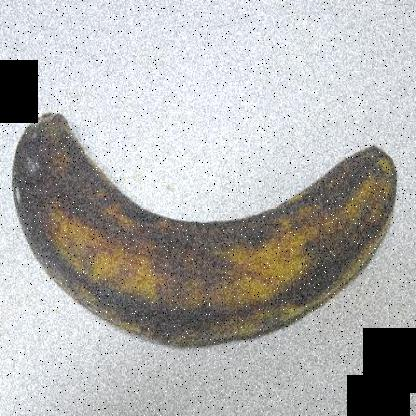overripe: (14, 96, 407, 352)
rotten: (1, 110, 79, 256)
